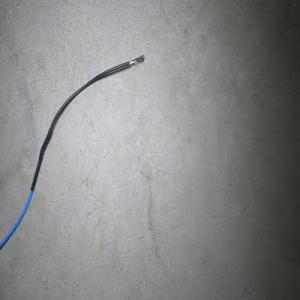Wire: (0, 54, 144, 250)
